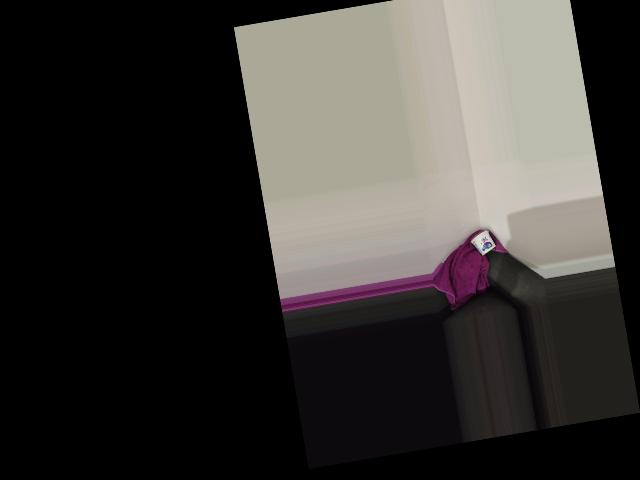cotage: (469, 227, 496, 256)
